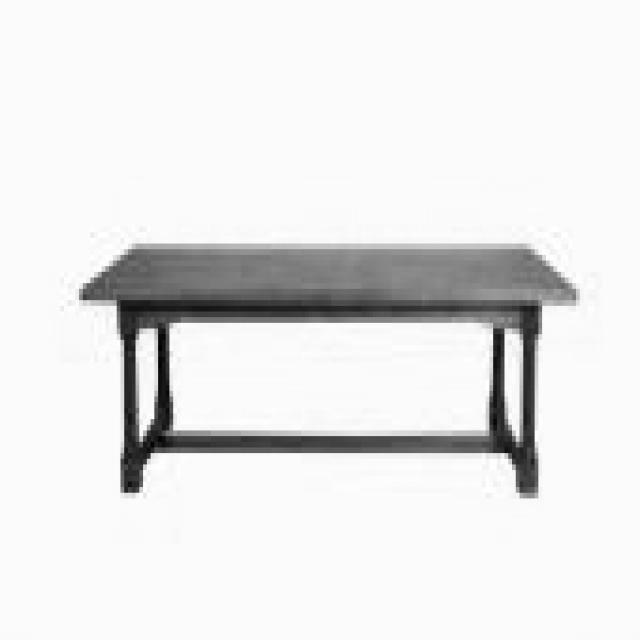table: (81, 243, 579, 499)
